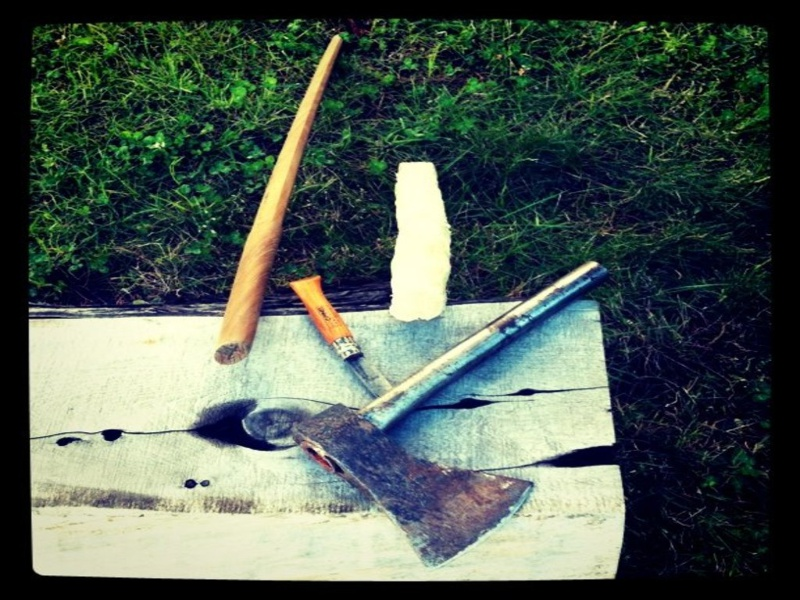axe: (286, 399, 546, 572)
